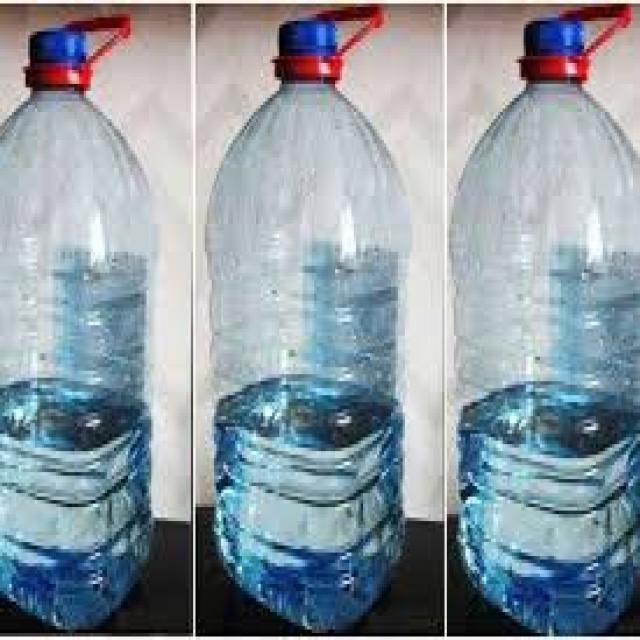Galon: (202, 3, 412, 630), (447, 4, 638, 633), (0, 11, 156, 630)
